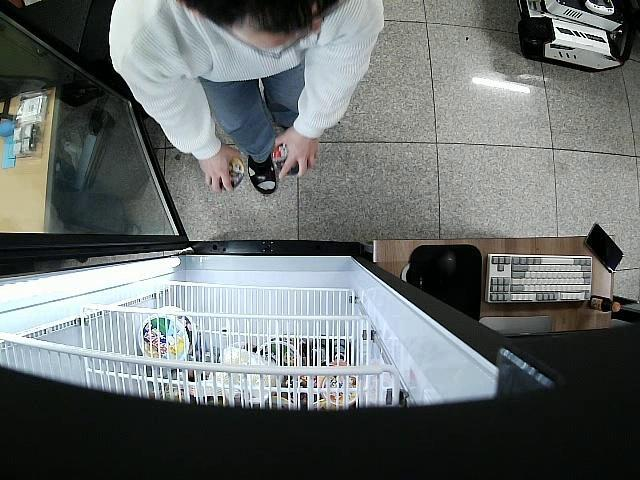08_buldak_S: (213, 157, 246, 190), (272, 142, 302, 177)
